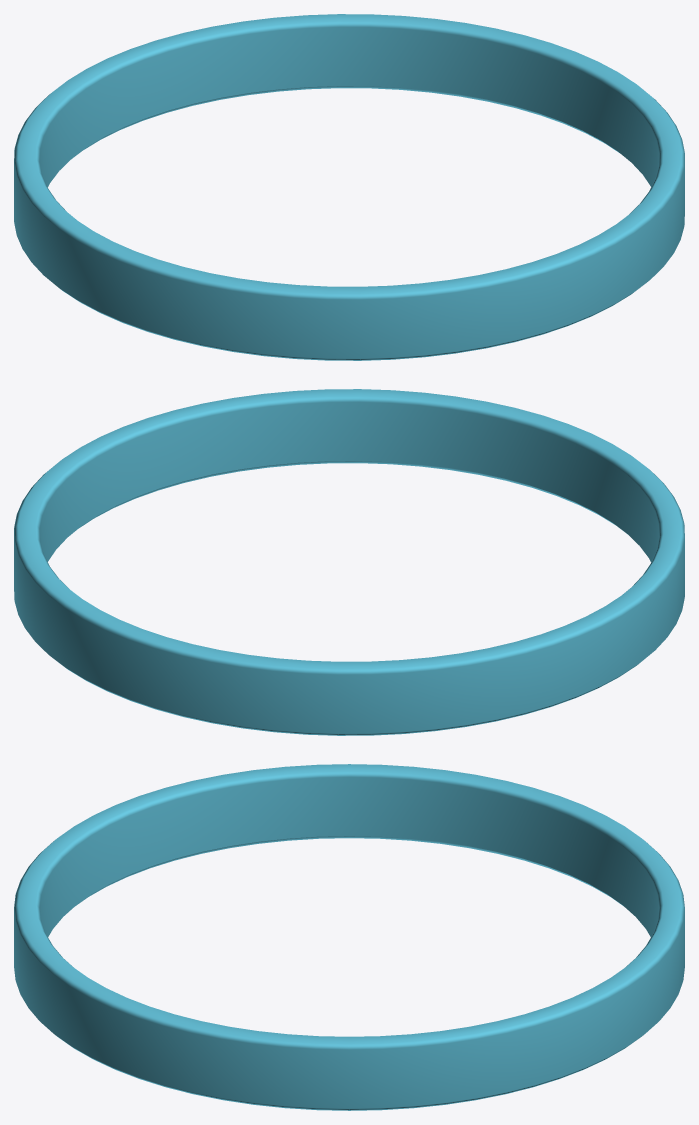
3 views of the same model, one above another, from view 1: azimuth 30°, elevation 25°; view 2: azimuth 150°, elevation 25°; view 3: azimuth 270°, elevation 25° (orthographic).
Visible parts, largest first — view 1: seal_body; view 2: seal_body; view 3: seal_body.
Boxes of the visible parts, box(x1,y1,x2,y2) form: seal_body: box(14, 14, 684, 360); seal_body: box(14, 389, 684, 735); seal_body: box(14, 764, 684, 1110).
Bounding box in the file's own units: 0.13 × 0.0143 × 0.13.
